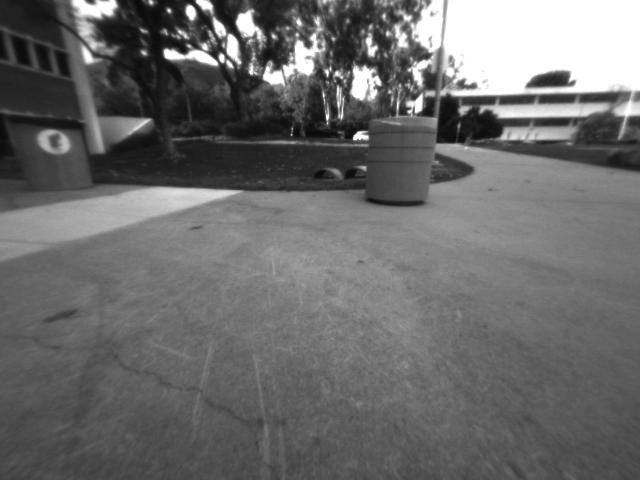trashcan: (1, 107, 98, 203), (361, 109, 442, 218)
